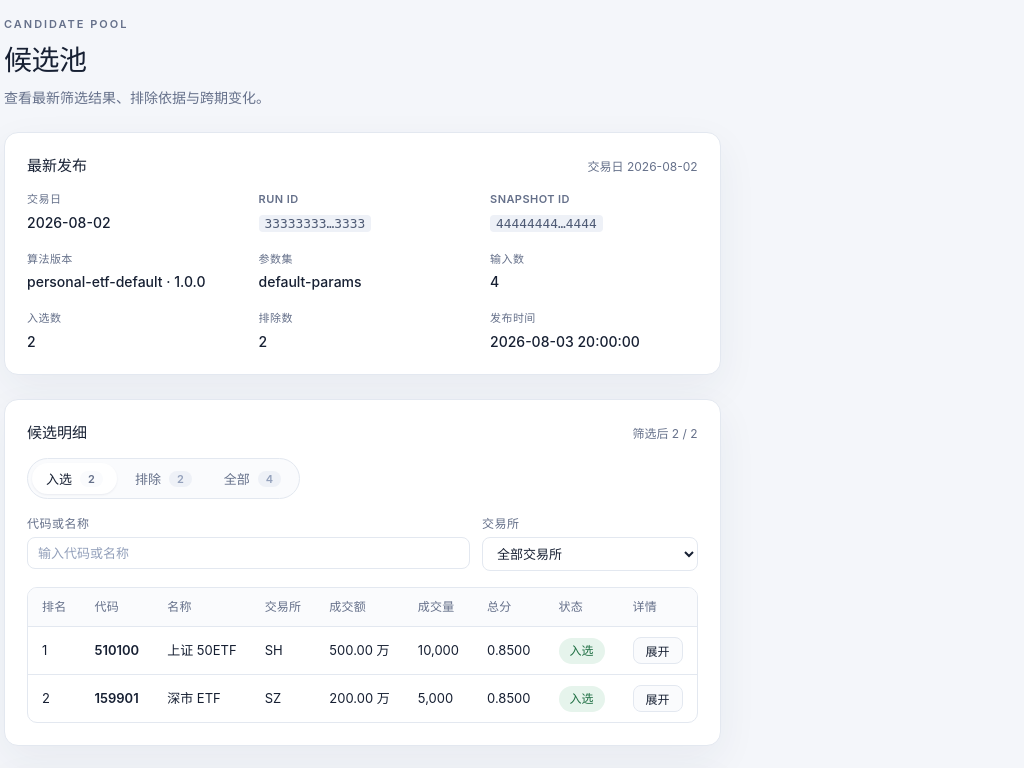
Test case: CandidatePoolPage › empty and error states › shows the empty state when no items match the active filters
Type "不存在的代码" into the search field with placeholder "输入代码或名称" at [248, 553], box 27,537 -> 470,569
(page scrolled)
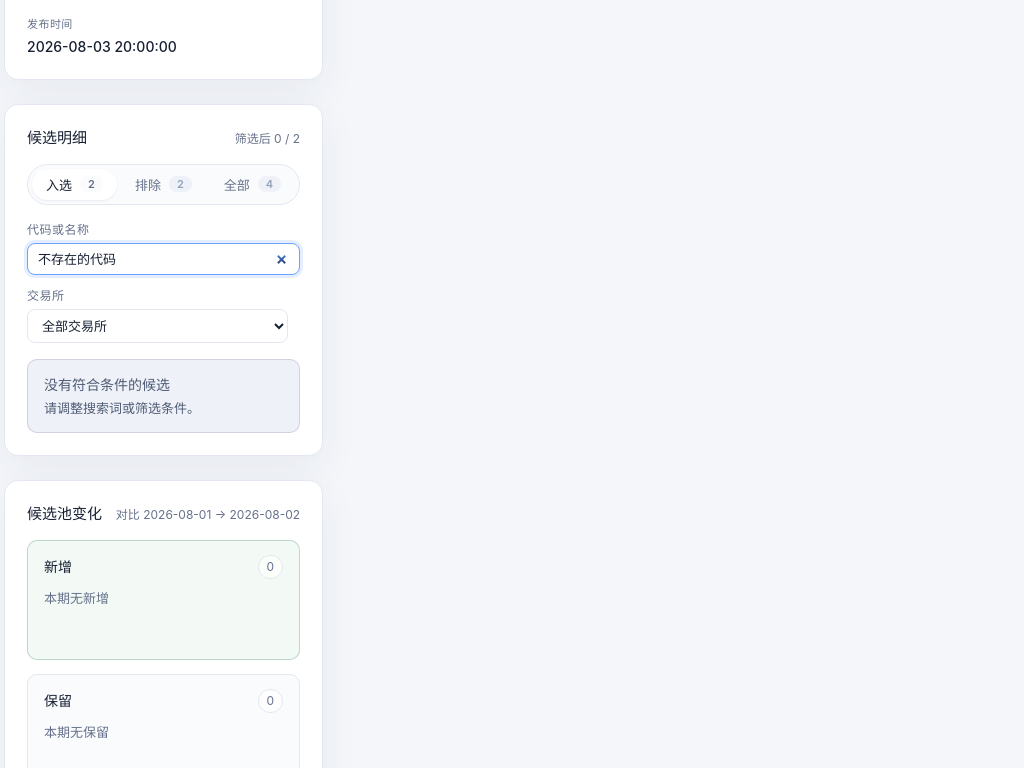
Check: the text "没有符合条件的候选" is shown, box 44,374 -> 170,395
